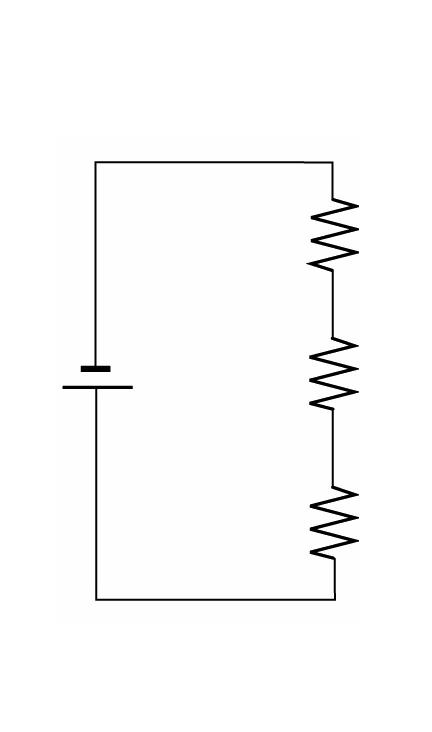resistor: (286, 451, 395, 572), (286, 164, 391, 283), (282, 315, 381, 416)
